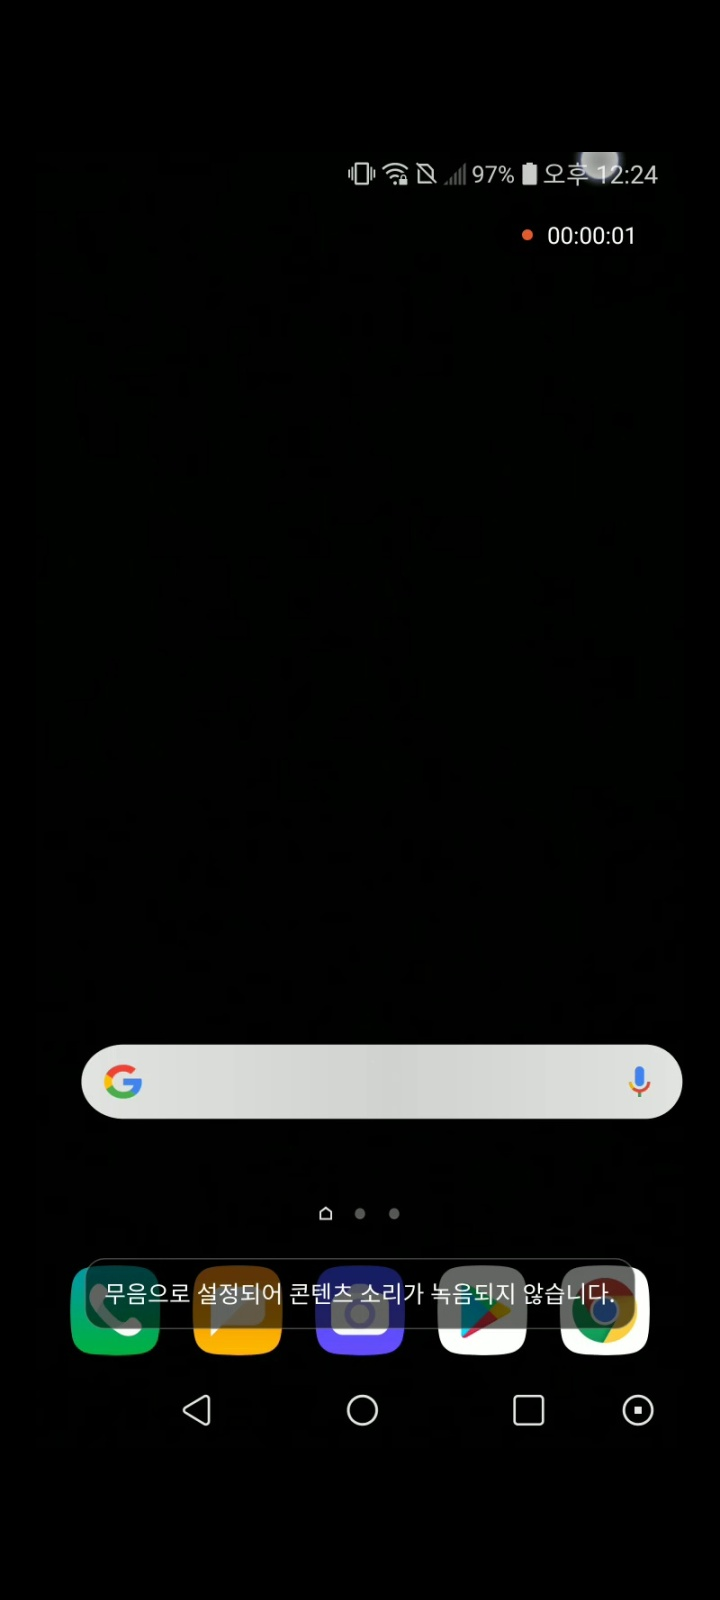Cursor: (580, 153, 621, 187)
